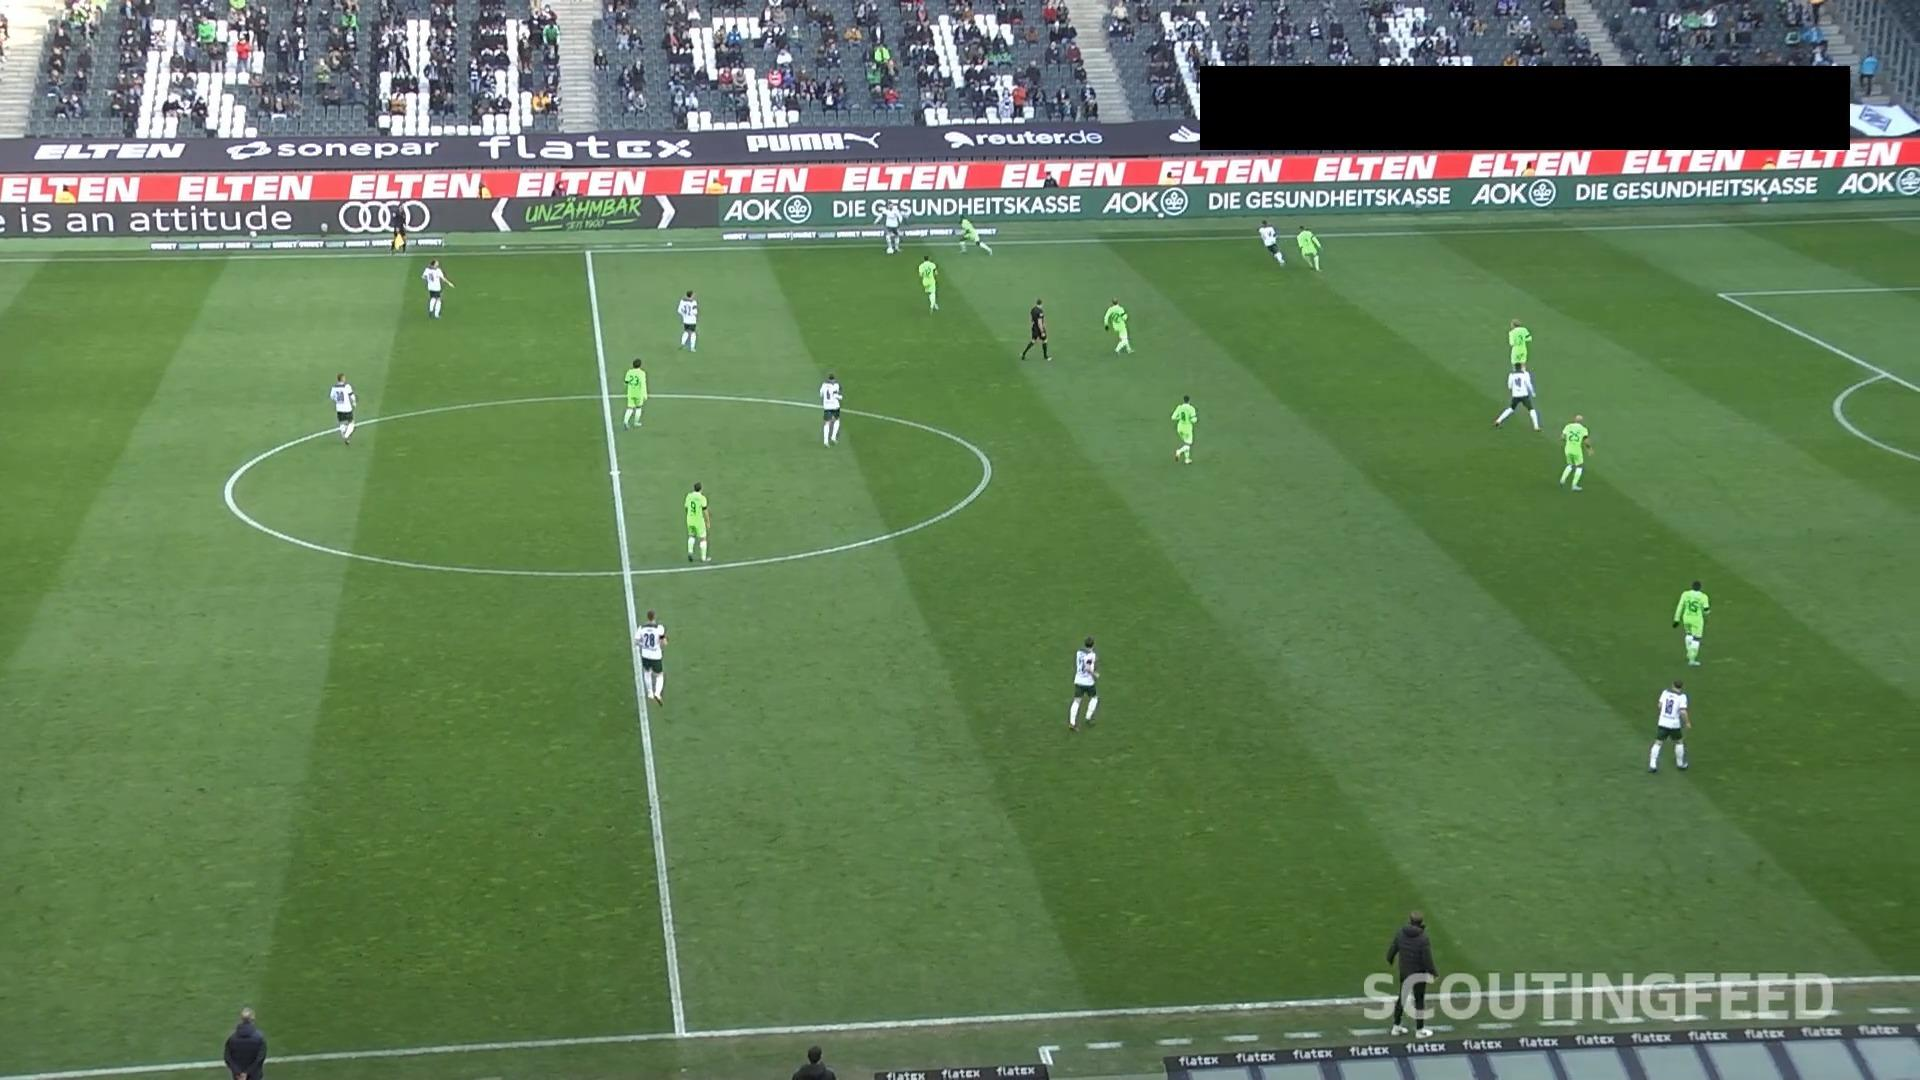coach: (1385, 909, 1438, 1036), (223, 1005, 266, 1078)
player: (1647, 678, 1691, 772), (1671, 578, 1710, 666), (1492, 361, 1541, 431), (633, 610, 667, 705), (1067, 635, 1100, 731), (1558, 413, 1592, 490), (683, 481, 711, 562), (1169, 393, 1198, 464), (420, 258, 454, 318), (328, 372, 356, 444), (817, 372, 843, 447), (621, 357, 647, 429), (1102, 297, 1133, 354), (957, 213, 992, 256), (1506, 316, 1532, 371), (676, 289, 699, 351), (1257, 217, 1285, 266), (917, 253, 939, 312), (1295, 223, 1322, 271), (879, 202, 902, 254)
referee: (1019, 297, 1051, 361), (791, 1044, 836, 1078), (387, 198, 409, 249)
